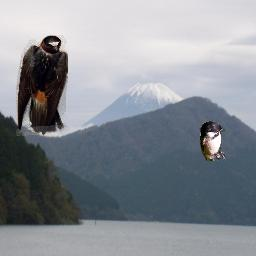Swallow: (16, 35, 68, 136), (199, 120, 227, 161)
